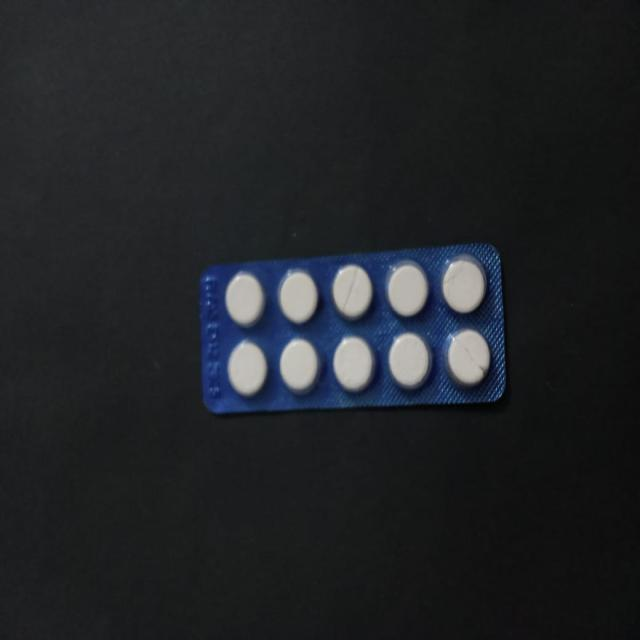defect: (441, 325, 493, 390), (439, 252, 490, 316), (328, 259, 376, 324)
